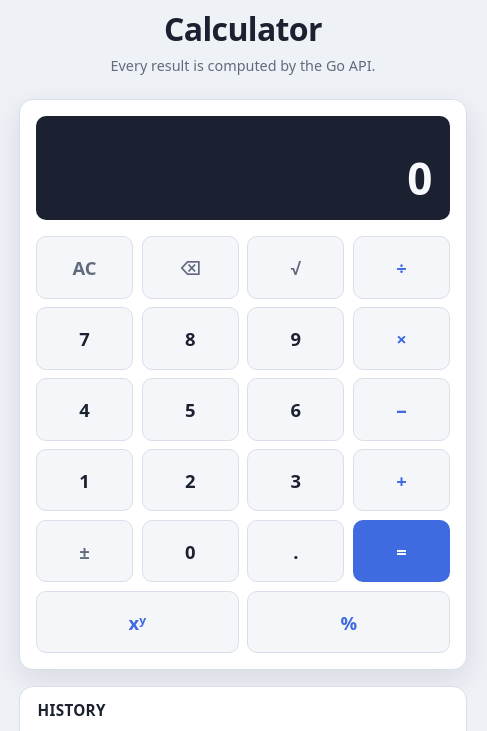
Test case: performing a calculation › shows the pending expression
This screenshot has width=487, height=731.
Click the button "1".
click(84, 480)  # box [36, 449, 133, 512]
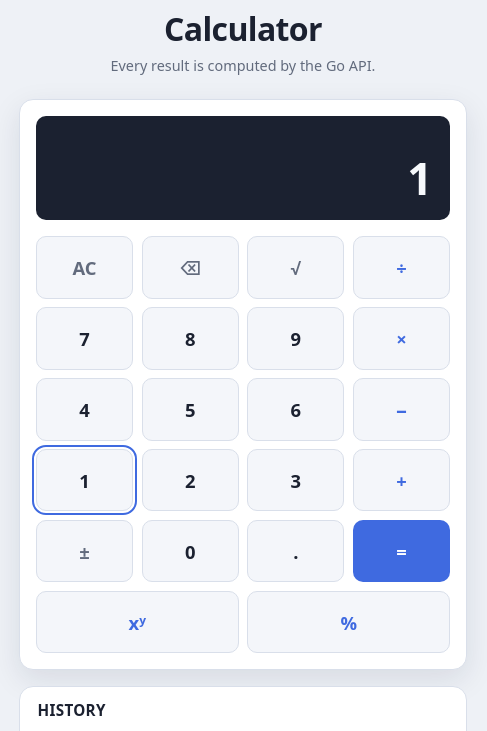
Click the button "2".
click(190, 480)  # box [142, 449, 239, 512]
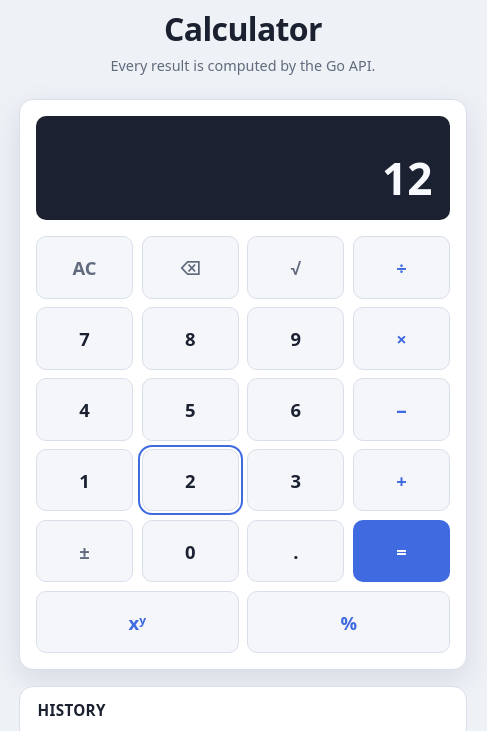
Click the button named "Divide".
click(402, 267)  # box [353, 236, 450, 298]
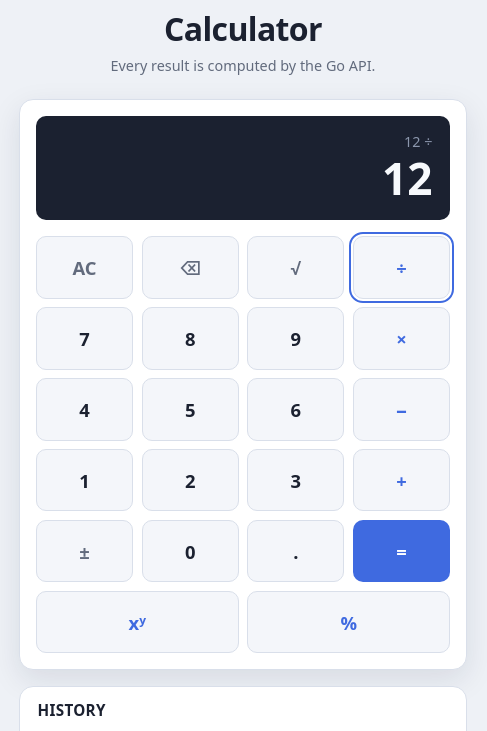
Check: the text with test id "expression" reads "12 ÷", box [404, 132, 432, 150]
